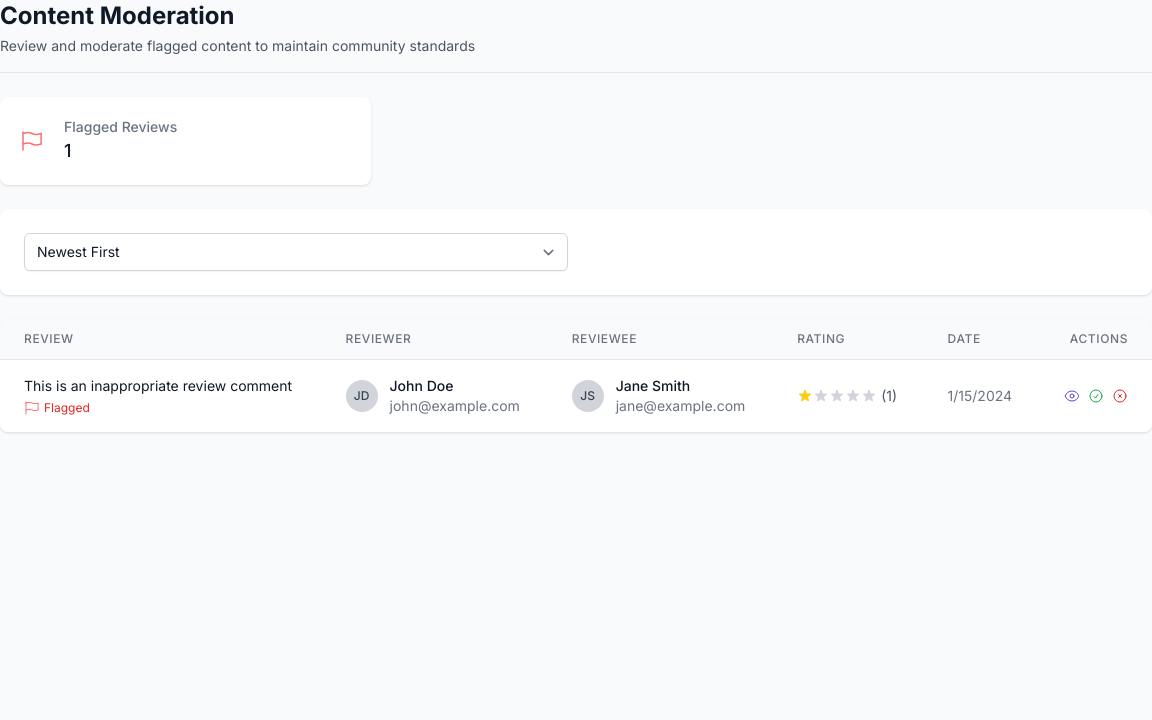
ContentModeration › opens review details modal
Click the button titled "View Details". click: x=1072, y=396
box: [1064,388,1080,404]
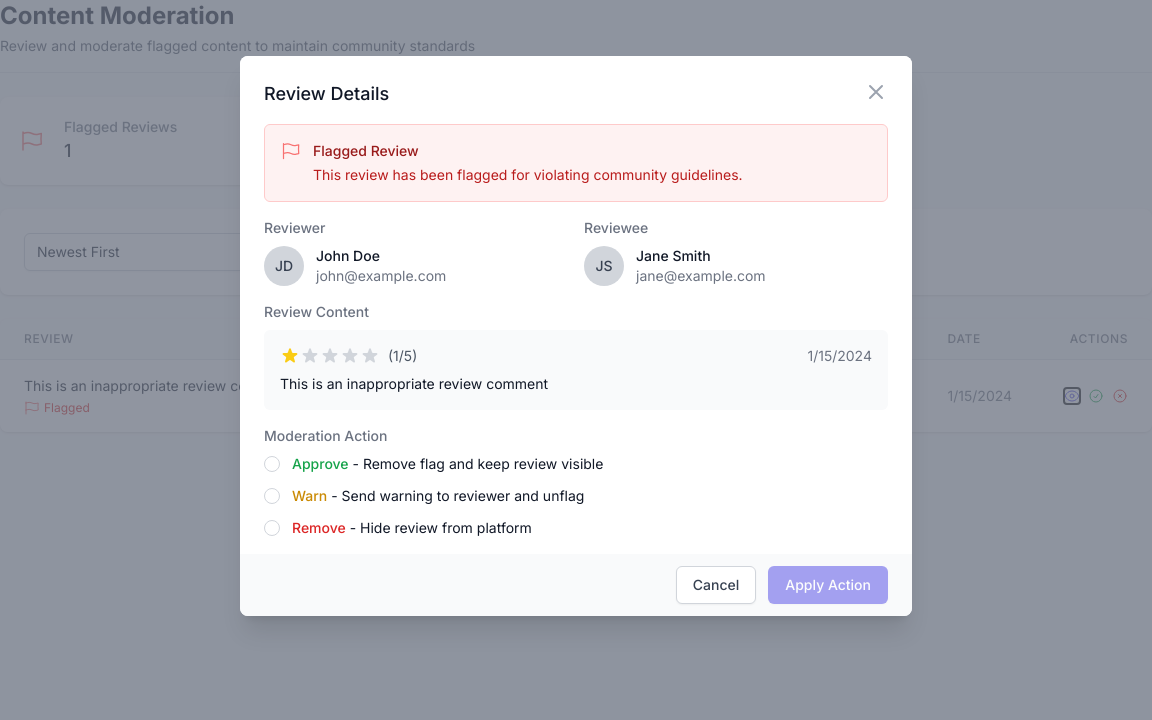
Now the heading "Review Details" is shown, box [264,80,389,108]
Now the heading "Flagged Review" is shown, box [313,142,419,159]
